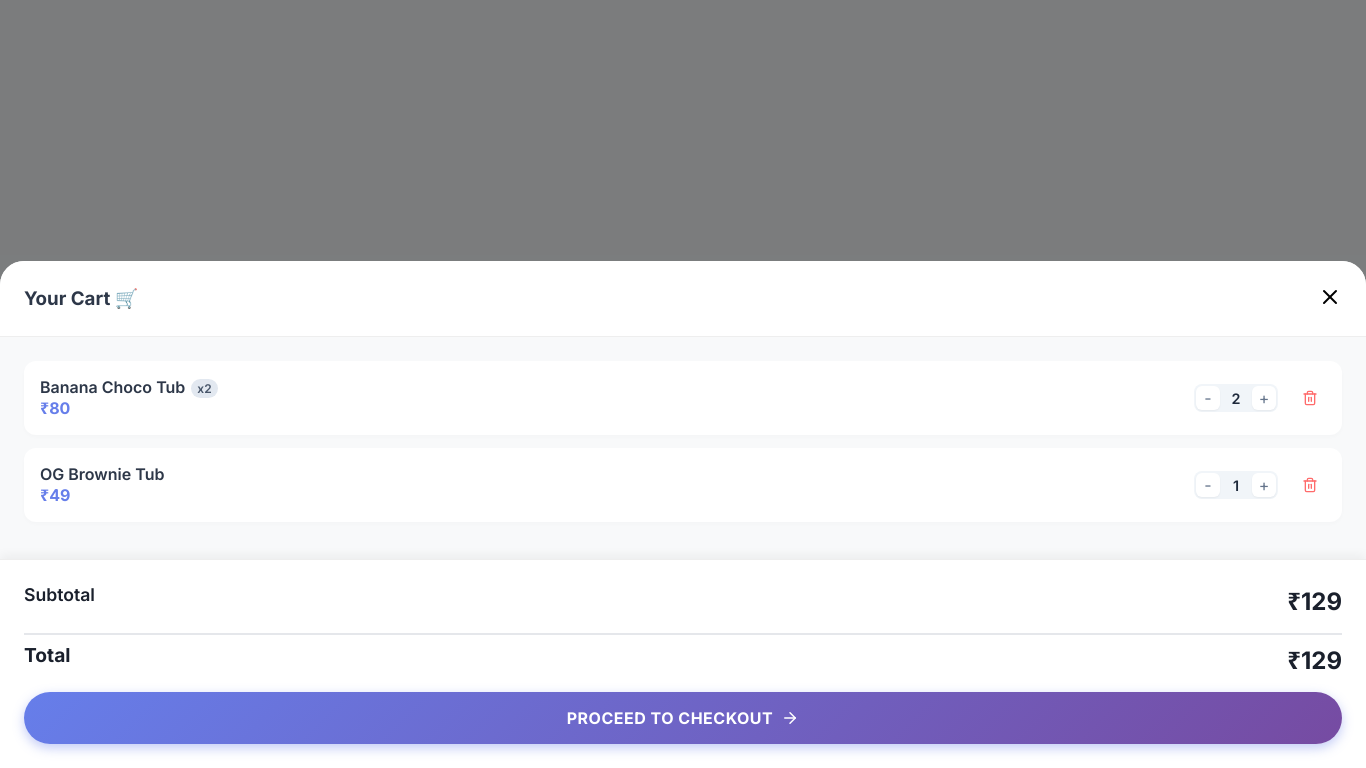
Test: CartModal › Customer Info Step › should navigate to customer info when checkout clicked
This screenshot has width=1366, height=768.
Click the button "Proceed to Checkout" at coordinates (683, 718), box x1=24 y1=692 x2=1342 y2=744
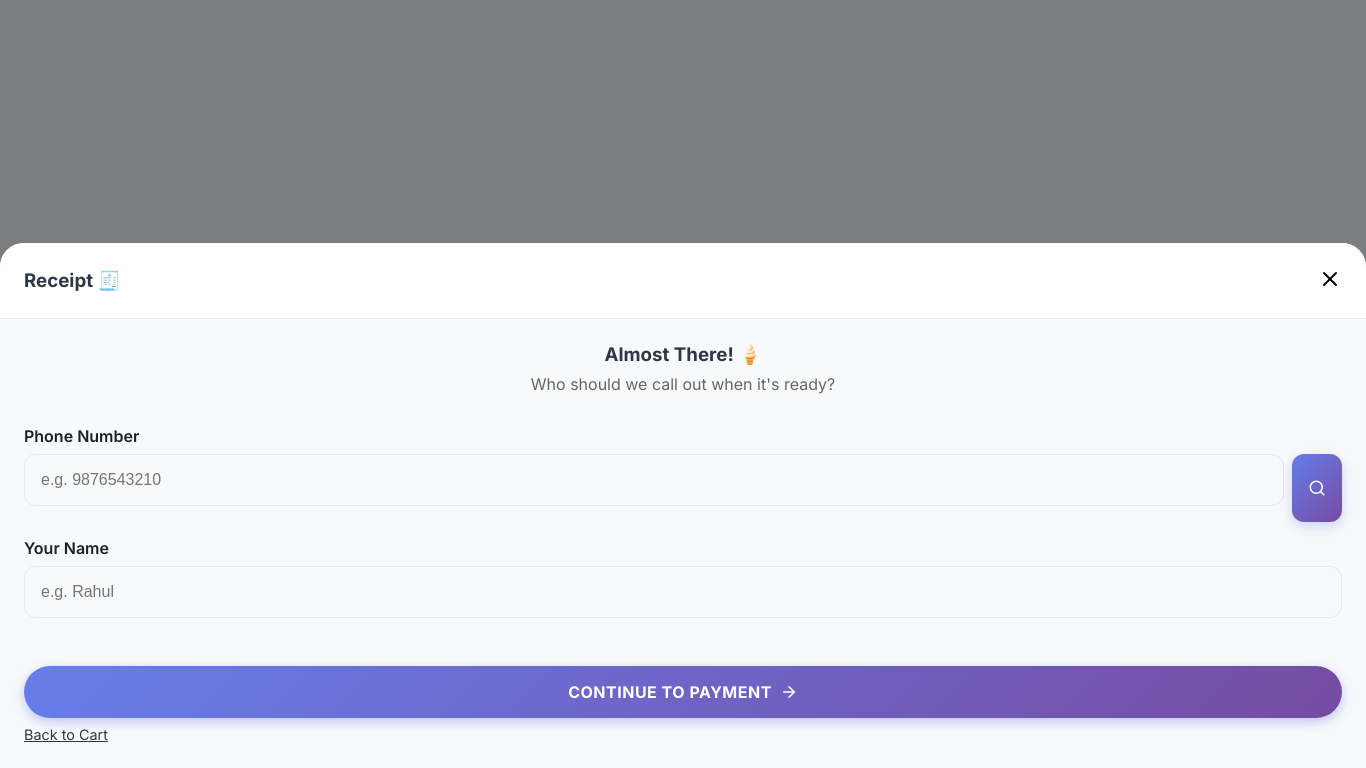
Expected: the heading "Almost There! 🍦" is shown, x1=604 y1=343 x2=762 y2=366
